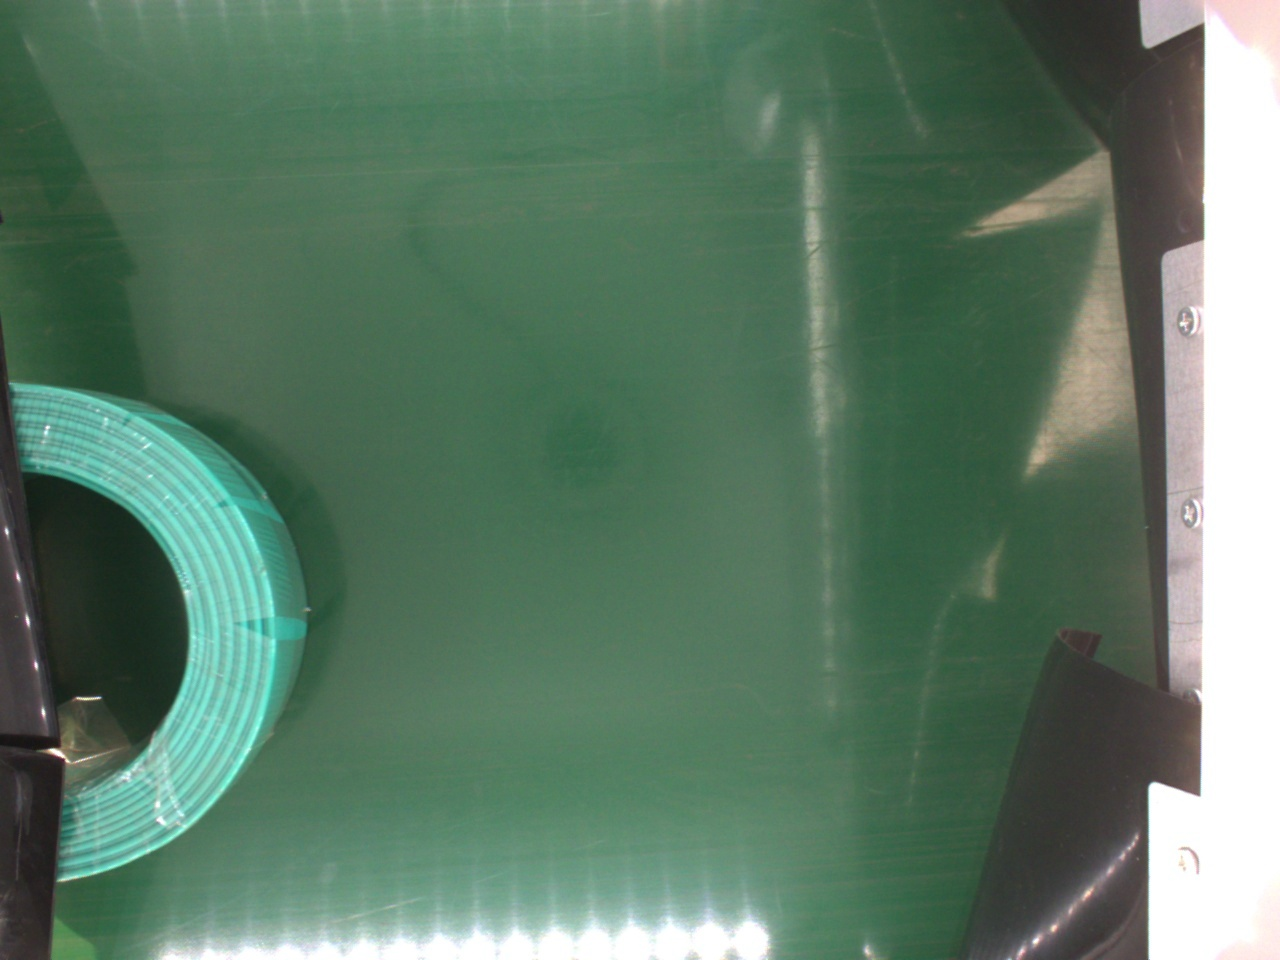green: (18, 379, 293, 891)
